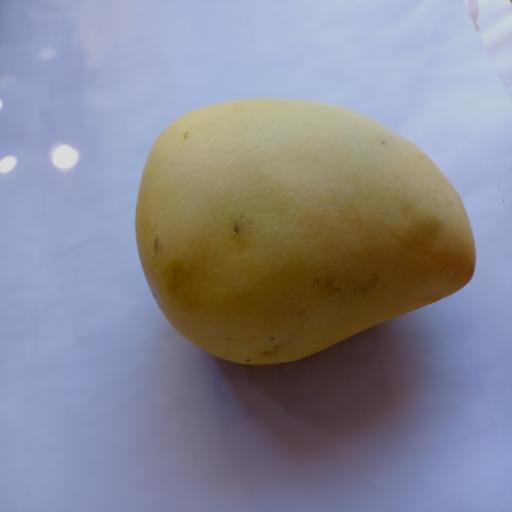mango-ripe: (103, 62, 493, 402)
